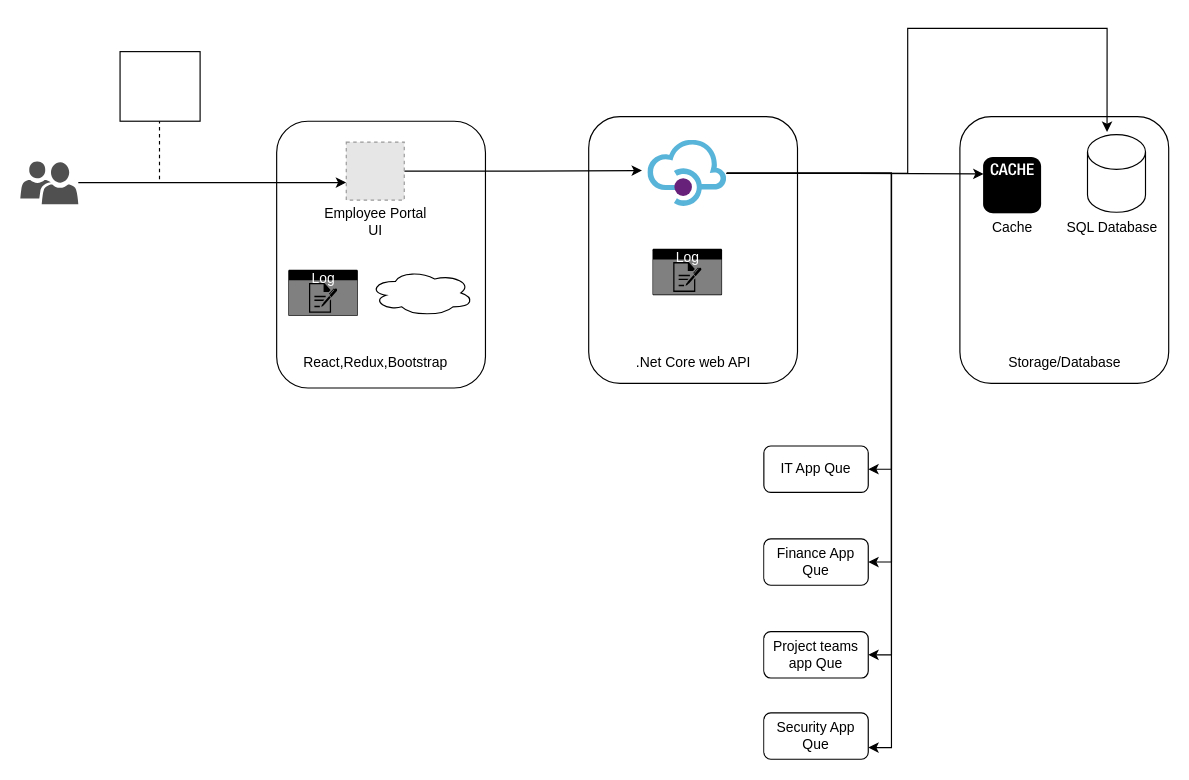
Some shapes in this 1189 by 780 pixel diagram are drawn without their labels. Grey dashed boxes stand in for pictures. The box of each missing label's shape, as (x1, y1, x2, y2) in pixels:
Authentication by username Password: (119, 50, 200, 121)
Azure SDK: (368, 269, 474, 316)
